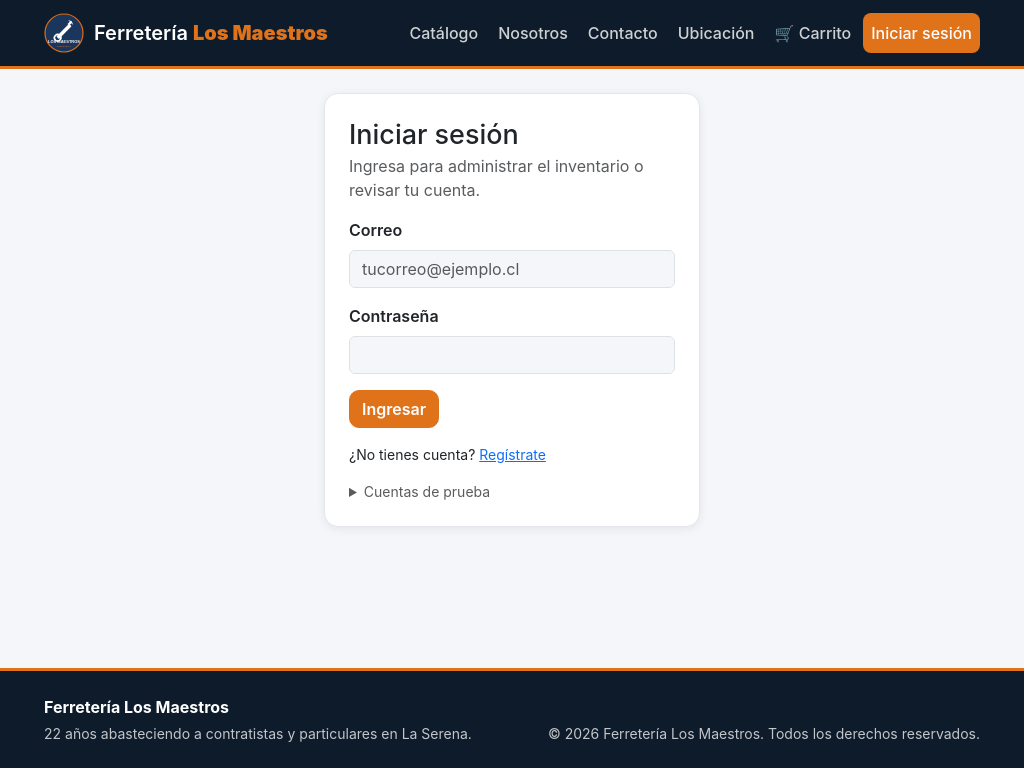
Test: Persistencia de la sesión (IE3.3.2) › credenciales incorrectas muestran error y no crean sesión
Type "admin@ferreteria.cl" into the field labelled "Correo" at (512, 269), box 349,250 -> 675,288
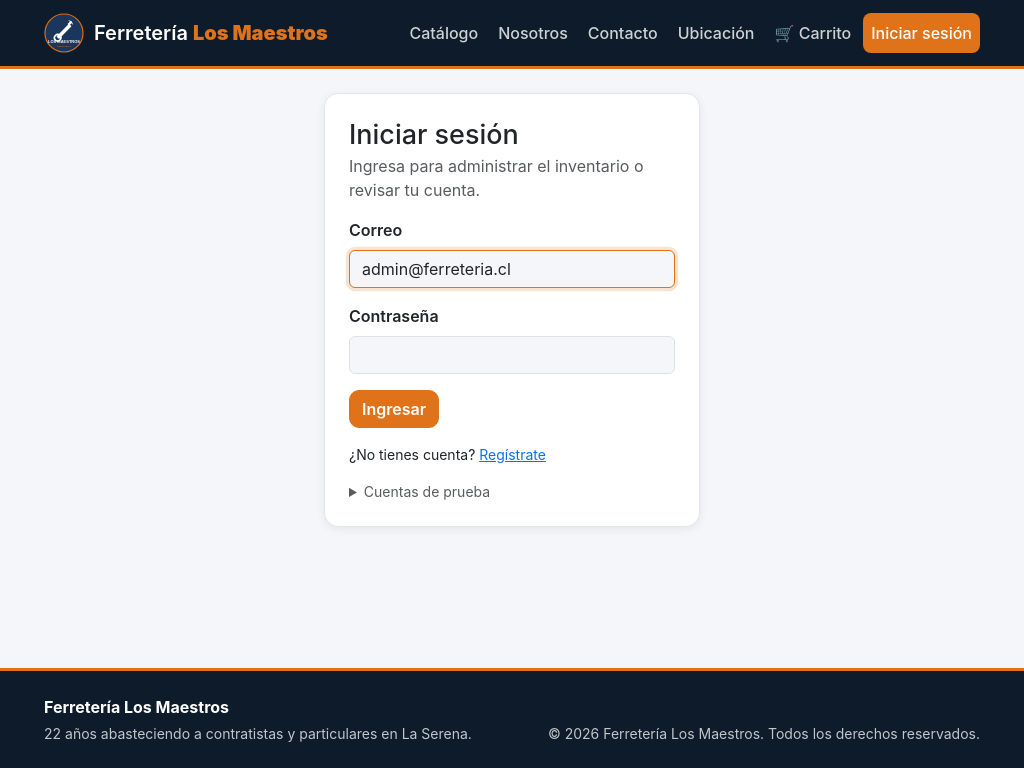
Type "equivocada" into the password field labelled "Contraseña" at (512, 355), box 349,336 -> 675,374
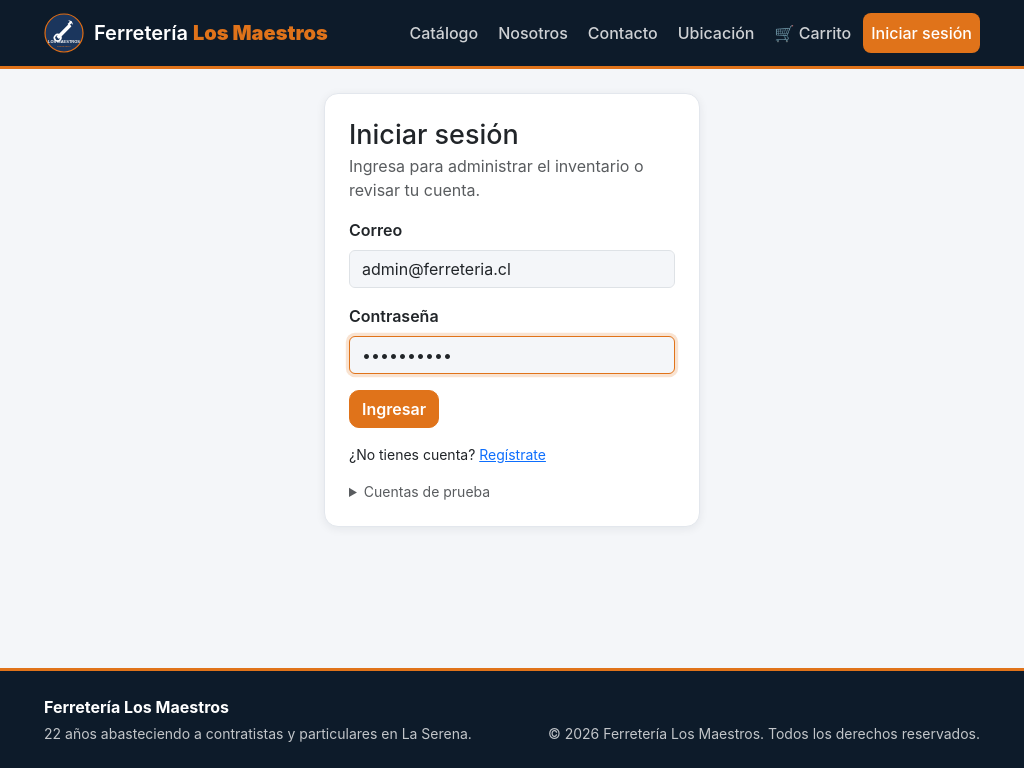
Click the button "Ingresar" at (394, 409), box 349,390 -> 439,428
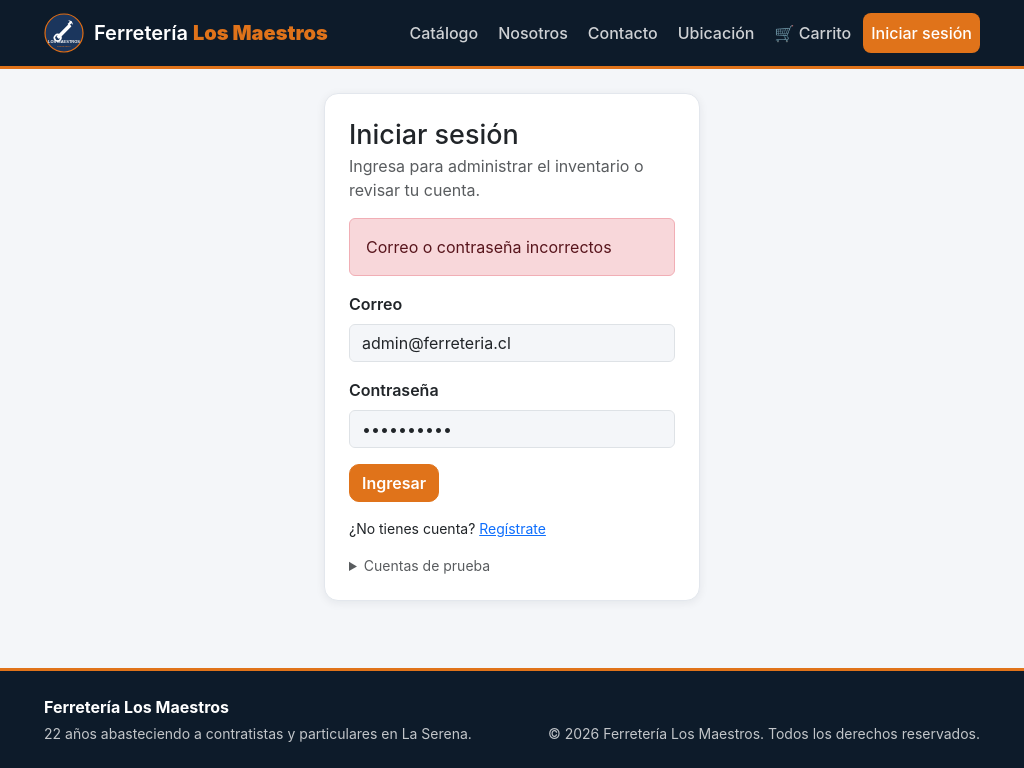
Expected: the text "Correo o contraseña incorrectos" is shown, 349,218 -> 675,276
